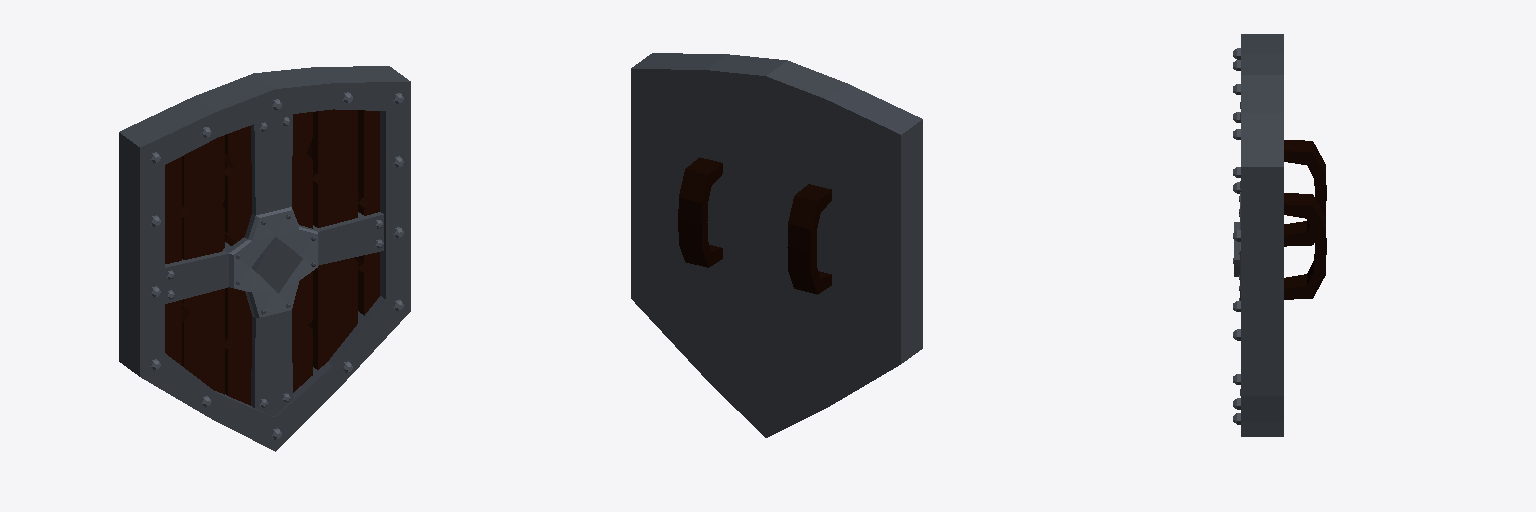
The model's file is shield.obj.
The picture shows the model from 3 angles: view 1: azimuth 30°, elevation 25°; view 2: azimuth 150°, elevation 25°; view 3: azimuth 270°, elevation 25°; orthographic projection.
Parts seen in each view (by area): view 1: Shield_Heater_Cube.009; view 2: Shield_Heater_Cube.009; view 3: Shield_Heater_Cube.009.
Boxes of the visible parts, x1=… form: Shield_Heater_Cube.009: x1=119, y1=66, x2=410, y2=451; Shield_Heater_Cube.009: x1=631, y1=53, x2=922, y2=437; Shield_Heater_Cube.009: x1=1233, y1=34, x2=1326, y2=436.
Size of the model in its own units: 2 by 2.56 by 0.597.